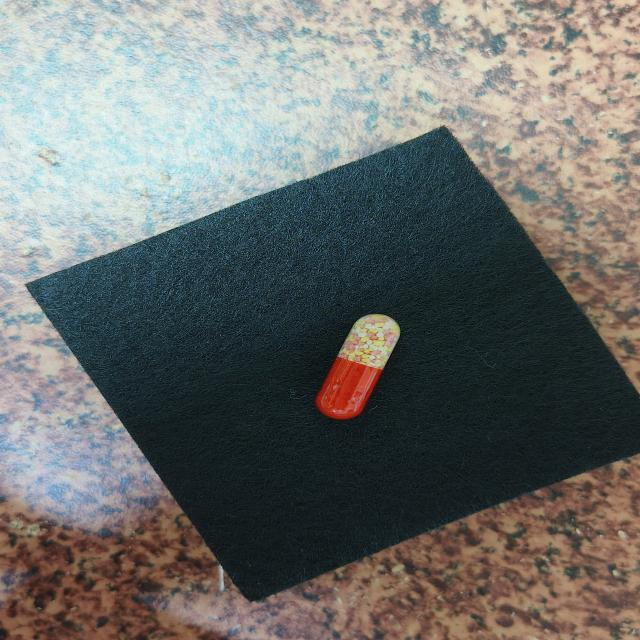Intact Capsule: (315, 314, 400, 419)
